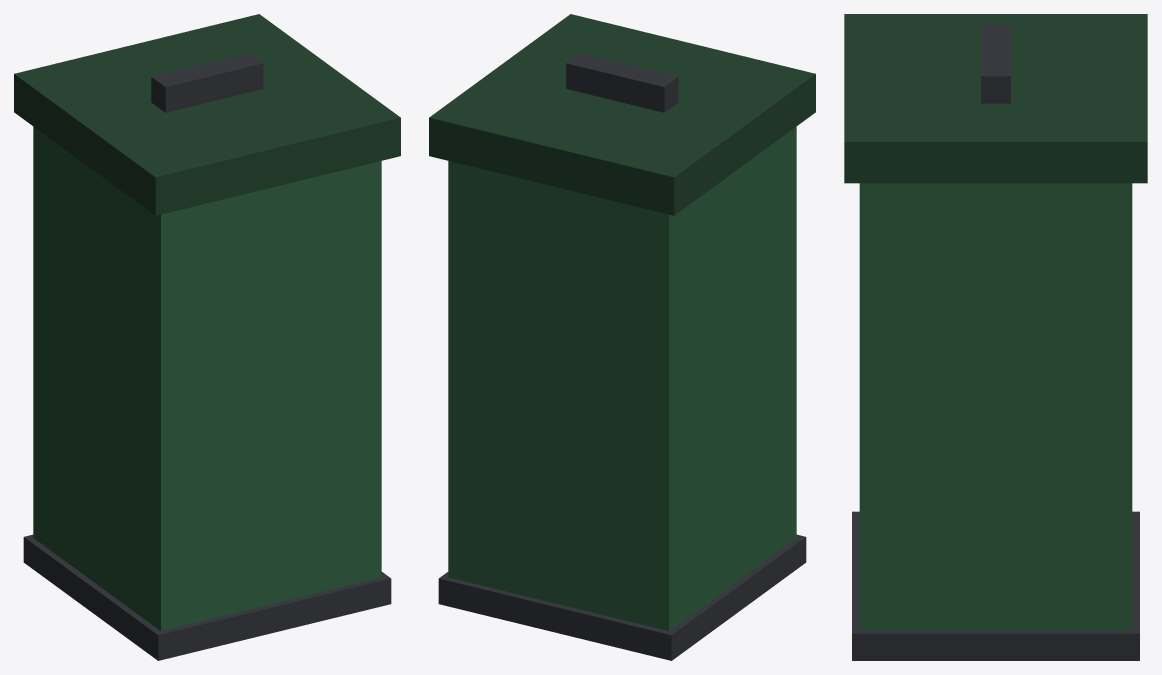
File: mod-lixeira.gltf
The picture shows the model from 3 angles, left to right: view 1: azimuth 30°, elevation 25°; view 2: azimuth 150°, elevation 25°; view 3: azimuth 270°, elevation 25°; orthographic projection. The views are drawn at different scales.
Visible parts, largest first — view 1: mod-lixeira; view 2: mod-lixeira; view 3: mod-lixeira.
Boxes of the visible parts, x1,y1,x2,y2 form: mod-lixeira: (14,14,400,660); mod-lixeira: (429,14,815,660); mod-lixeira: (844,14,1147,660).
Size of the model in its own units: 0.4 by 0.8 by 0.4.
